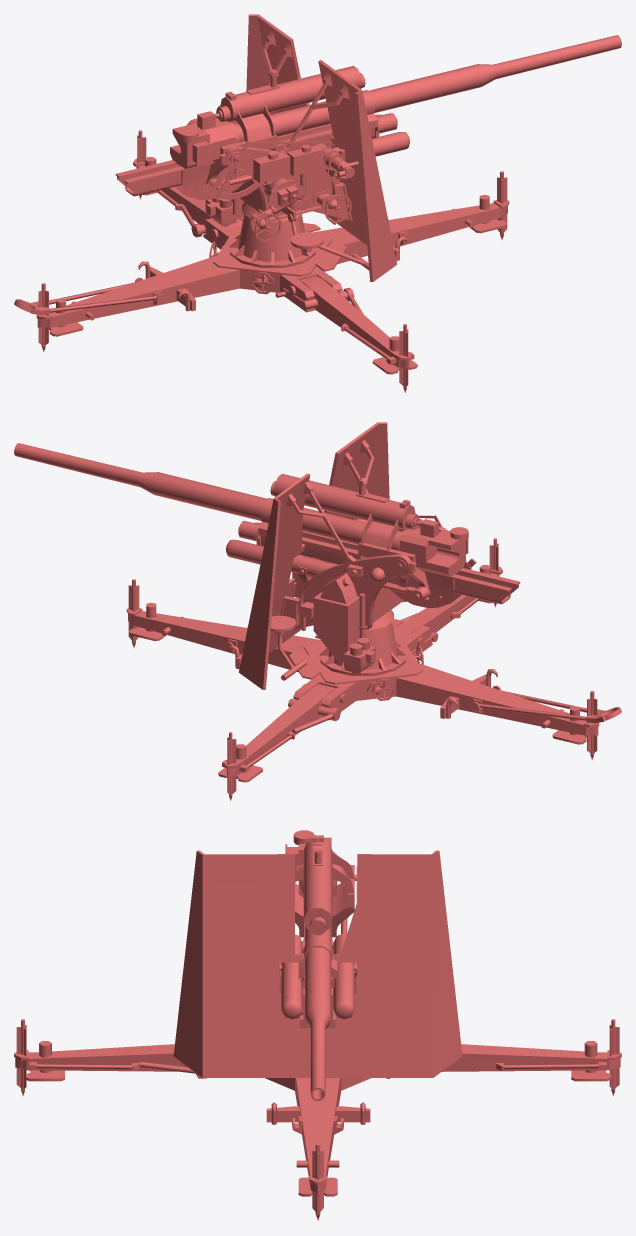
File: flak18.glb
3 renders of one model, top to bottom at view 1: azimuth 30°, elevation 25°; view 2: azimuth 150°, elevation 25°; view 3: azimuth 270°, elevation 25°, orthographic. The views are drawn at different scales.
Parts seen in each view (by area): view 1: StaticBase, YawBody, PitchAssembly; view 2: StaticBase, PitchAssembly, YawBody; view 3: YawBody, StaticBase, PitchAssembly.
Boxes of the visible parts, box(x1,y1,x2,y2) form: StaticBase: box(14, 130, 509, 393); YawBody: box(186, 14, 397, 281); PitchAssembly: box(115, 35, 621, 199); StaticBase: box(126, 538, 621, 800); PitchAssembly: box(14, 443, 520, 607); YawBody: box(239, 422, 476, 689); YawBody: box(173, 850, 462, 1077); StaticBase: box(14, 937, 621, 1220); PitchAssembly: box(281, 830, 354, 1100).
Bounding box in the file's own units: 6.71 × 2.5 × 5.26.
